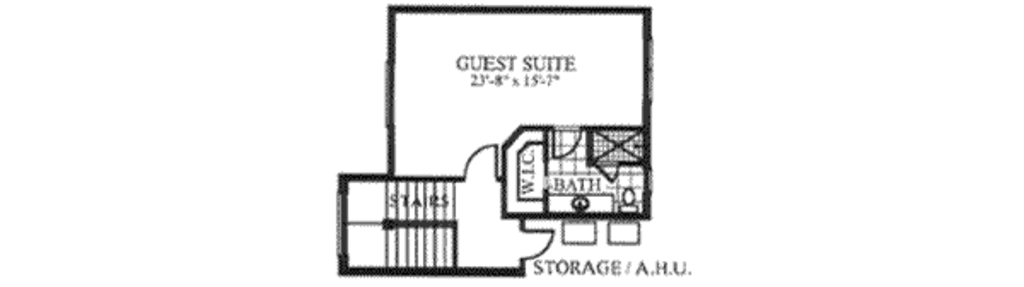door: (461, 143, 501, 184), (518, 230, 558, 262), (547, 128, 582, 159)
large_sink: (617, 185, 641, 216)
small_sink: (550, 194, 616, 216)
stairs: (340, 181, 463, 275)
